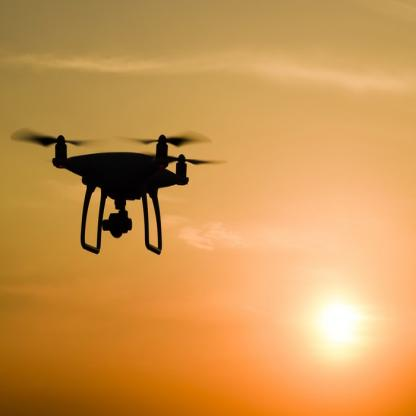drone: (22, 123, 220, 224)
